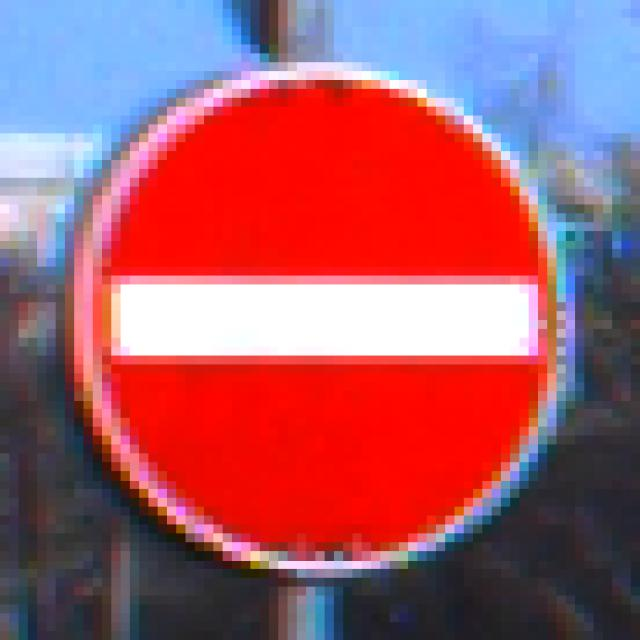No Entry: (57, 63, 585, 588)
